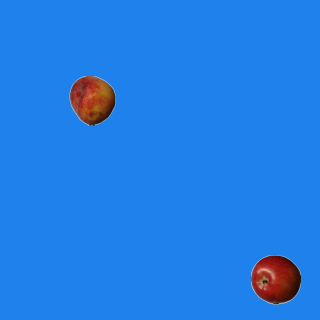Apple Braeburn: (250, 254, 300, 304)
Peach: (67, 75, 117, 125)
